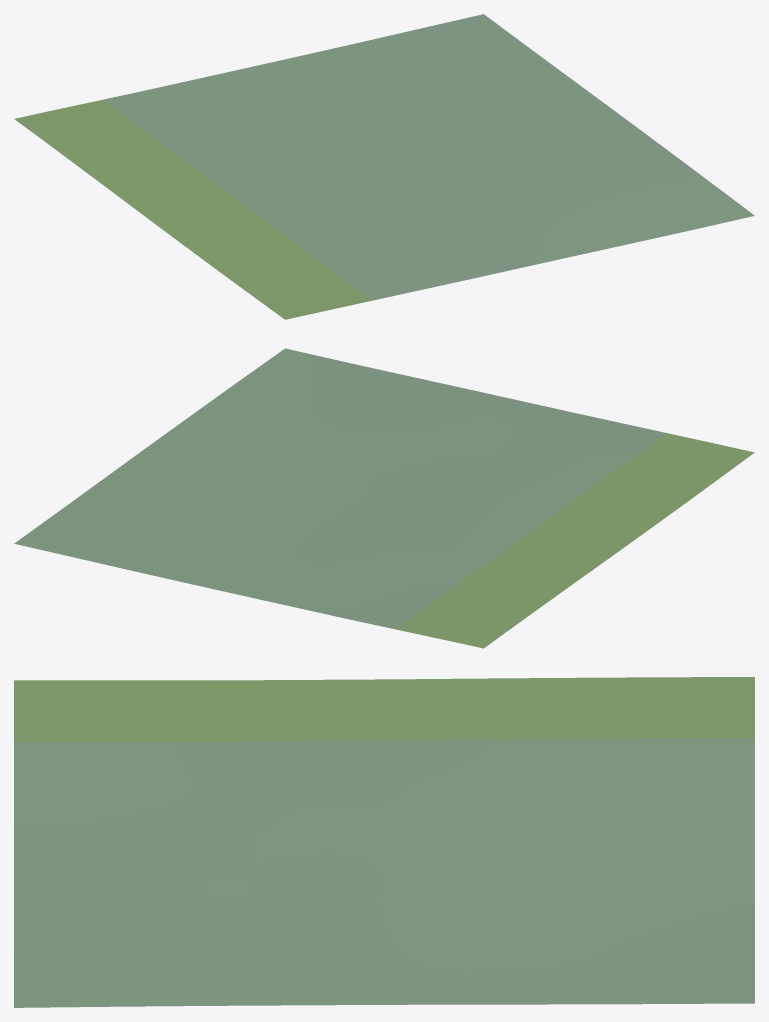
The model's file is floor_001_chunk_x+02_z+17_lod0.glb.
The picture shows the model from 3 angles, top to bottom: view 1: azimuth 30°, elevation 25°; view 2: azimuth 150°, elevation 25°; view 3: azimuth 270°, elevation 25°; orthographic projection. The views are drawn at different scales.
Visible parts, largest first — view 1: floor_001_chunk_x+02_z+17_lod0; view 2: floor_001_chunk_x+02_z+17_lod0; view 3: floor_001_chunk_x+02_z+17_lod0.
Part boxes in pixels (<box>): floor_001_chunk_x+02_z+17_lod0: <box>14,14,754,319</box>; floor_001_chunk_x+02_z+17_lod0: <box>14,348,754,648</box>; floor_001_chunk_x+02_z+17_lod0: <box>14,677,754,1007</box>.
Bounding box in the file's own units: 256 × 6.77 × 256.
